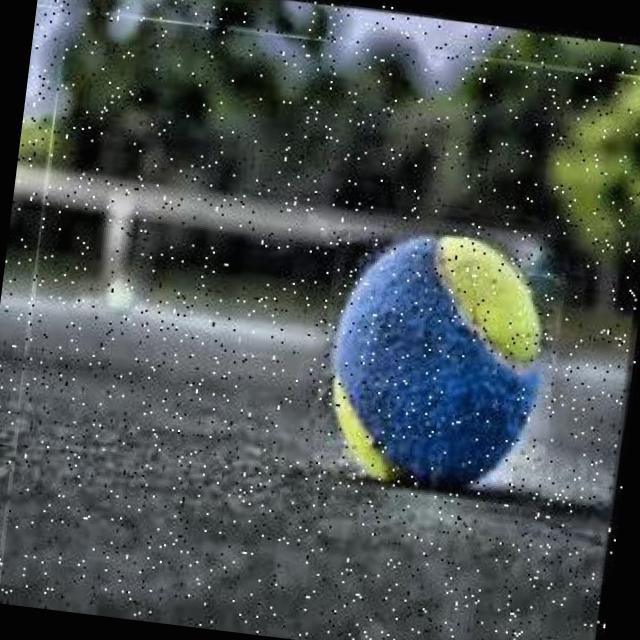Tennis Ball: (304, 218, 577, 520)
